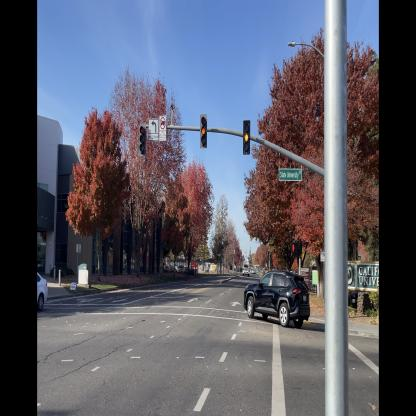left-red: (138, 122, 147, 160)
yellow: (242, 118, 251, 157), (199, 112, 208, 150)
